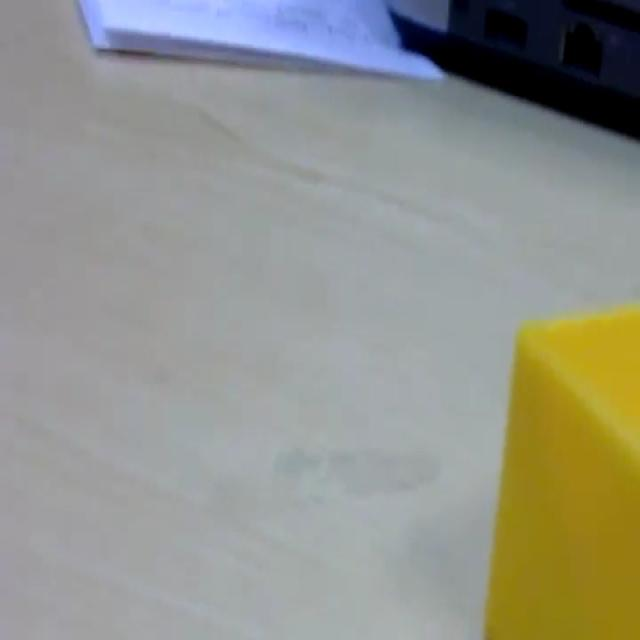yellow_block: (482, 302, 638, 638)
